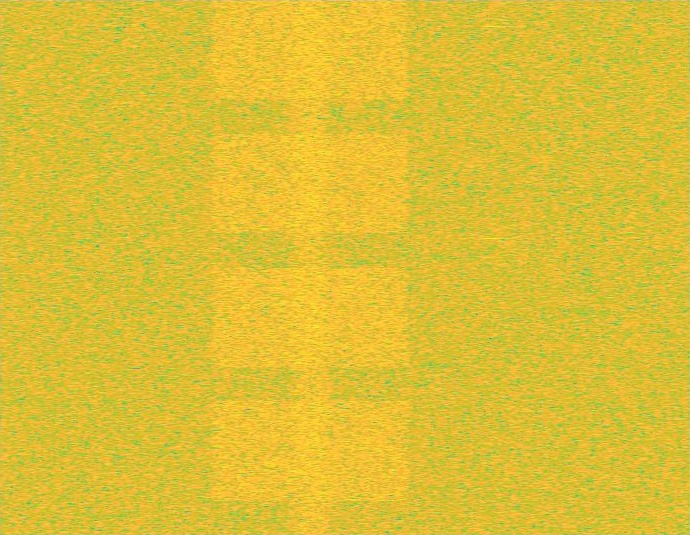5G: (207, 0, 414, 534)
DSSS: (287, 0, 334, 534)
Radar: (486, 0, 500, 534)
